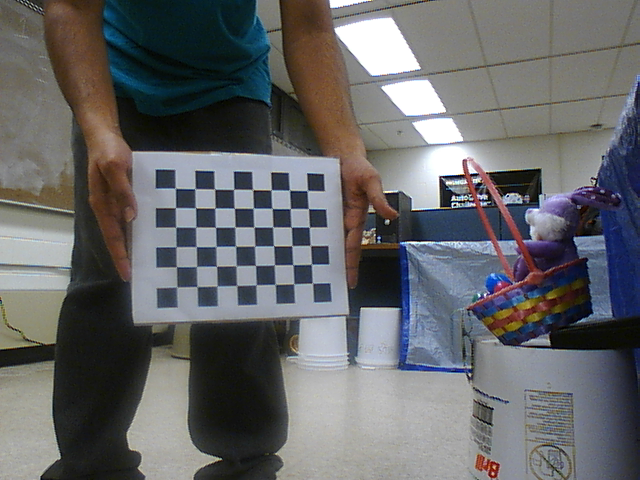bunny: (446, 150, 612, 344)
